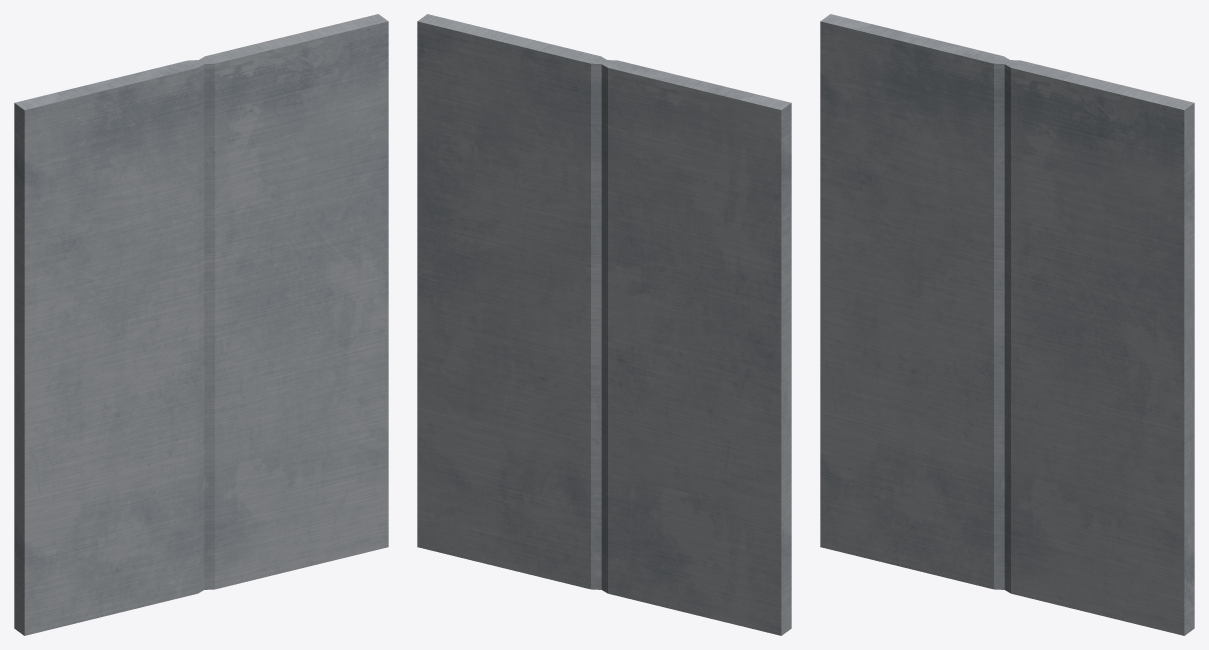
File: ElevatorDoor.fbx
3 renders of one model, left to right at view 1: azimuth 30°, elevation 25°; view 2: azimuth 150°, elevation 25°; view 3: azimuth 330°, elevation 25°, orthographic.
Parts seen in each view (by area): view 1: Elevator.002, Elevator.003; view 2: Elevator.002, Elevator.003; view 3: Elevator.003, Elevator.002.
Part boxes in pixels (bbox=[...]): Elevator.002: bbox=[14, 60, 204, 635]; Elevator.003: bbox=[199, 14, 388, 589]; Elevator.002: bbox=[601, 60, 791, 635]; Elevator.003: bbox=[417, 14, 606, 589]; Elevator.003: bbox=[1004, 60, 1194, 635]; Elevator.002: bbox=[820, 14, 1009, 589].
Size of the model in its own units: 167 by 230 by 8.
